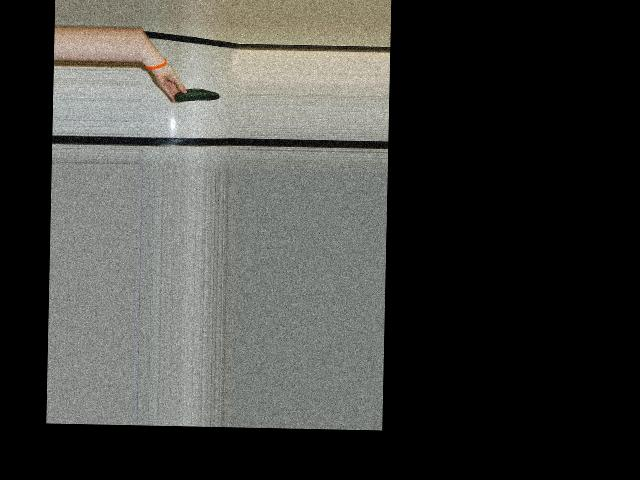cucumber: (173, 89, 220, 103)
